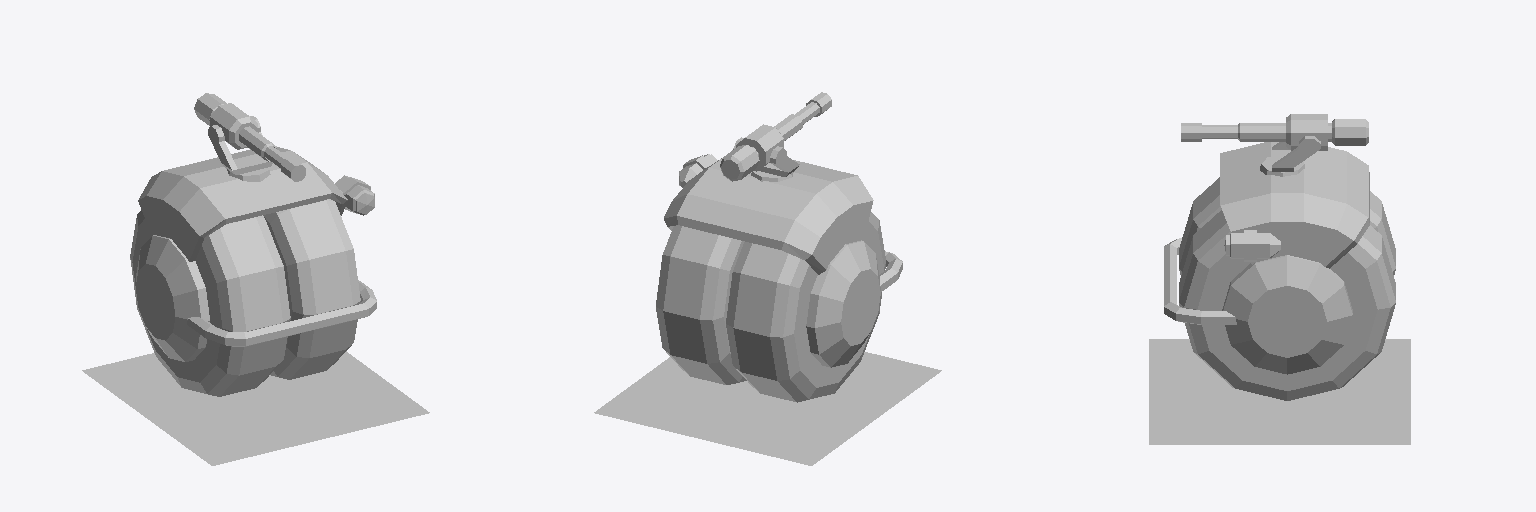
Rendered from legscout_AO.obj.
3 renders of one model, left to right at view 1: azimuth 30°, elevation 25°; view 2: azimuth 150°, elevation 25°; view 3: azimuth 270°, elevation 25°, orthographic.
Visible parts, largest first — view 1: rTyre,ox=-2.80,oy=-0.00,oz=-0.00,p=body,, body,ox=-0.00,oy=7.54,oz=0.00,p=,mx=0.00,my=9.87,mz=0.00,r=9.86,, lTyre,ox=2.80,oy=0.00,oz=0.00,p=body,, gun,ox=-0.06,oy=2.27,oz=-1.86,p=mount,, mount,ox=0.06,oy=8.63,oz=0.32,p=body,, barrel,ox=-0.01,oy=0.10,oz=4.96,p=gun,, ammo,ox=-0.00,oy=-15.59,oz=1.19,p=gun,; view 2: rTyre,ox=-2.80,oy=-0.00,oz=-0.00,p=body,, body,ox=-0.00,oy=7.54,oz=0.00,p=,mx=0.00,my=9.87,mz=0.00,r=9.86,, lTyre,ox=2.80,oy=0.00,oz=0.00,p=body,, gun,ox=-0.06,oy=2.27,oz=-1.86,p=mount,, ammo,ox=-0.00,oy=-15.59,oz=1.19,p=gun,, mount,ox=0.06,oy=8.63,oz=0.32,p=body,, barrel,ox=-0.01,oy=0.10,oz=4.96,p=gun,; view 3: body,ox=-0.00,oy=7.54,oz=0.00,p=,mx=0.00,my=9.87,mz=0.00,r=9.86,, rTyre,ox=-2.80,oy=-0.00,oz=-0.00,p=body,, lTyre,ox=2.80,oy=0.00,oz=0.00,p=body,, gun,ox=-0.06,oy=2.27,oz=-1.86,p=mount,, mount,ox=0.06,oy=8.63,oz=0.32,p=body,, ammo,ox=-0.00,oy=-15.59,oz=1.19,p=gun,, barrel,ox=-0.01,oy=0.10,oz=4.96,p=gun,.
Part boxes in pixels (x1,y1,x2,y2): rTyre,ox=-2.80,oy=-0.00,oz=-0.00,p=body,: (82,210,429,465); body,ox=-0.00,oy=7.54,oz=0.00,p=,mx=0.00,my=9.87,mz=0.00,r=9.86,: (136,147,376,361); lTyre,ox=2.80,oy=0.00,oz=0.00,p=body,: (263,199,360,379); gun,ox=-0.06,oy=2.27,oz=-1.86,p=mount,: (210,103,276,160); mount,ox=0.06,oy=8.63,oz=0.32,p=body,: (208,116,272,181); barrel,ox=-0.01,oy=0.10,oz=4.96,p=gun,: (264,146,305,181); ammo,ox=-0.00,oy=-15.59,oz=1.19,p=gun,: (194,93,226,125); rTyre,ox=-2.80,oy=-0.00,oz=-0.00,p=body,: (594,212,941,465); body,ox=-0.00,oy=7.54,oz=0.00,p=,mx=0.00,my=9.87,mz=0.00,r=9.86,: (664,154,902,367); lTyre,ox=2.80,oy=0.00,oz=0.00,p=body,: (656,225,746,384); gun,ox=-0.06,oy=2.27,oz=-1.86,p=mount,: (736,114,802,171); ammo,ox=-0.00,oy=-15.59,oz=1.19,p=gun,: (720,145,759,181); mount,ox=0.06,oy=8.63,oz=0.32,p=body,: (733,137,799,181); barrel,ox=-0.01,oy=0.10,oz=4.96,p=gun,: (795,92,831,124); body,ox=-0.00,oy=7.54,oz=0.00,p=,mx=0.00,my=9.87,mz=0.00,r=9.86,: (1164,142,1369,374); rTyre,ox=-2.80,oy=-0.00,oz=-0.00,p=body,: (1149,177,1410,444); lTyre,ox=2.80,oy=0.00,oz=0.00,p=body,: (1179,210,1395,400); gun,ox=-0.06,oy=2.27,oz=-1.86,p=mount,: (1238,114,1331,150); mount,ox=0.06,oy=8.63,oz=0.32,p=body,: (1260,136,1320,176); ammo,ox=-0.00,oy=-15.59,oz=1.19,p=gun,: (1332,119,1368,145); barrel,ox=-0.01,oy=0.10,oz=4.96,p=gun,: (1181,123,1237,141).
Size of the model in its own units: 17.44 by 20.73 by 18.09.